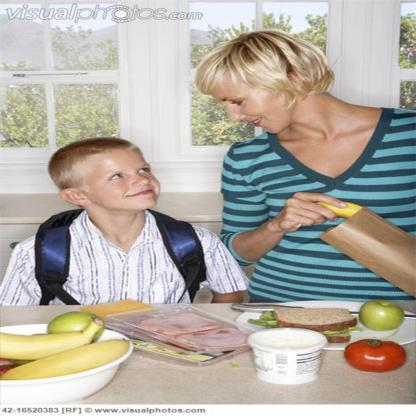face: (222, 78, 286, 135), (96, 155, 159, 211)
